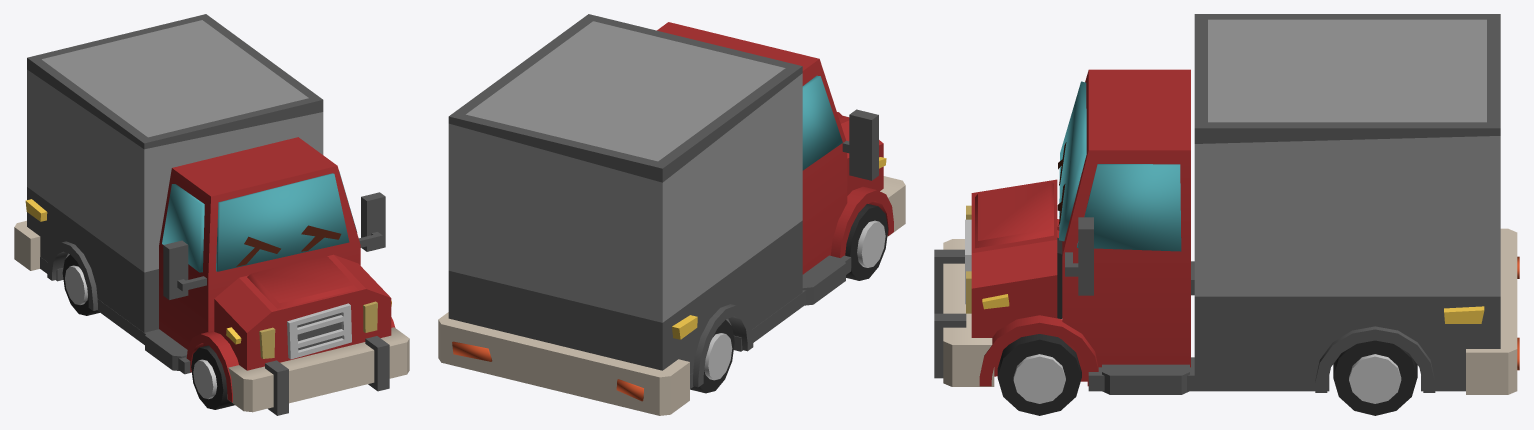
File: Truck.fbx
3 views of the same model, side by side, from view 1: azimuth 30°, elevation 25°; view 2: azimuth 150°, elevation 25°; view 3: azimuth 270°, elevation 25° (orthographic). The views are drawn at different scales.
Parts seen in each view (by area): view 1: Truck, Body, Windows, Bumpers, Hood, Mirrors, Radiator, Tires, Disk, Light, Cleaners, Radiator_Back; view 2: Truck, Bumpers, Body, Windows, Tires, Mirrors, Disk, Back_Lights, Lights_Back_Side; view 3: Truck, Body, Windows, Bumpers, Tires, Hood, Disk, Mirrors, Lights_Back_Side.
Part boxes in pixels (left/top/right/bottom): Truck: left=27, top=14, right=389, bottom=415; Body: left=159, top=137, right=395, bottom=402; Windows: left=162, top=171, right=357, bottom=272; Bumpers: left=14, top=220, right=409, bottom=412; Hood: left=247, top=255, right=357, bottom=308; Mirrors: left=163, top=192, right=385, bottom=299; Radiator: left=287, top=303, right=351, bottom=359; Tires: left=62, top=254, right=234, bottom=409; Disk: left=65, top=265, right=217, bottom=399; Light: left=259, top=301, right=377, bottom=358; Cleaners: left=236, top=225, right=341, bottom=266; Radiator_Back: left=297, top=313, right=341, bottom=350; Truck: left=448, top=14, right=851, bottom=388; Bumpers: left=438, top=176, right=905, bottom=415; Body: left=657, top=22, right=893, bottom=274; Windows: left=802, top=75, right=842, bottom=170; Tires: left=690, top=204, right=888, bottom=393; Mirrors: left=842, top=109, right=878, bottom=180; Disk: left=704, top=220, right=885, bottom=380; Back_Lights: left=452, top=341, right=643, bottom=401; Lights_Back_Side: left=672, top=315, right=697, bottom=339; Truck: left=934, top=14, right=1500, bottom=394; Body: left=971, top=69, right=1190, bottom=386; Windows: left=1059, top=81, right=1181, bottom=251; Bumpers: left=943, top=228, right=1517, bottom=394; Tires: left=997, top=237, right=1417, bottom=415; Hood: left=975, top=181, right=1053, bottom=248; Disk: left=1013, top=354, right=1401, bottom=403; Mirrors: left=1065, top=217, right=1093, bottom=295; Lights_Back_Side: left=1444, top=306, right=1484, bottom=323.
Size of the model in its own units: 271 by 266 by 487.
